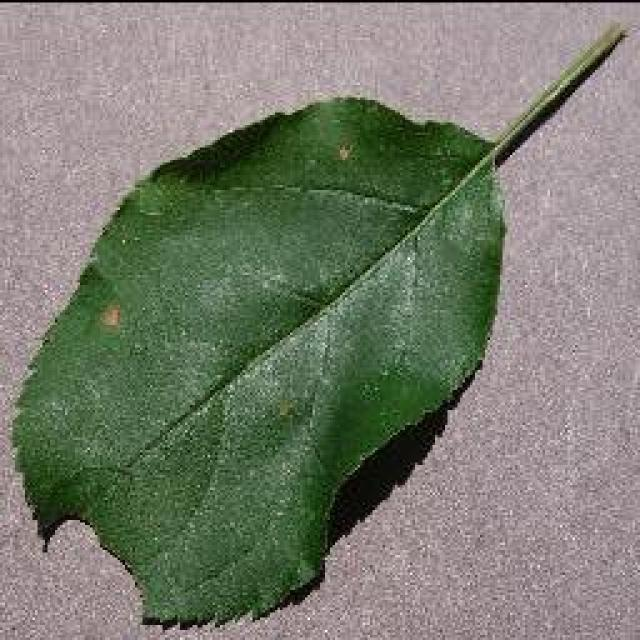Apple___Black_rot: (7, 93, 513, 630)
